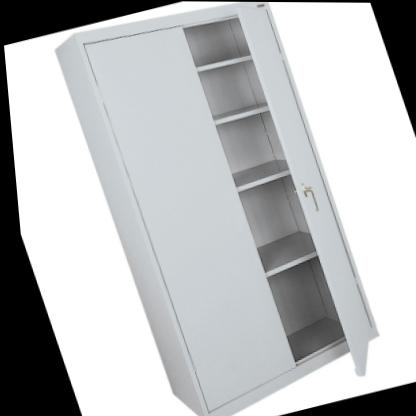Cabinet: (40, 0, 395, 416)
